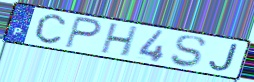4: (136, 29, 166, 64)
C: (34, 13, 68, 46)
H: (98, 22, 141, 59)
J: (207, 43, 241, 73)
P: (63, 14, 104, 51)
S: (169, 35, 208, 68)
